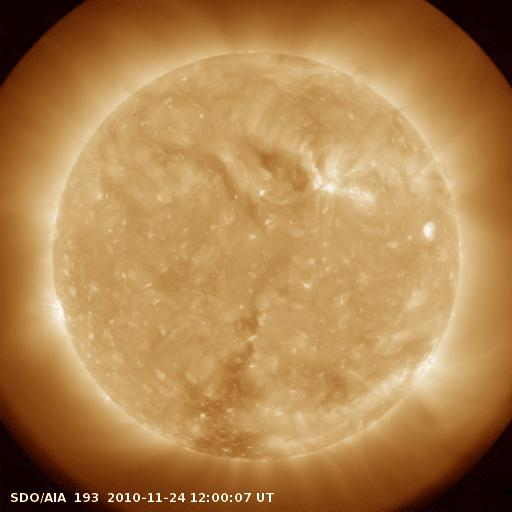coronal_hole: (179, 310, 269, 461), (246, 142, 312, 189)
